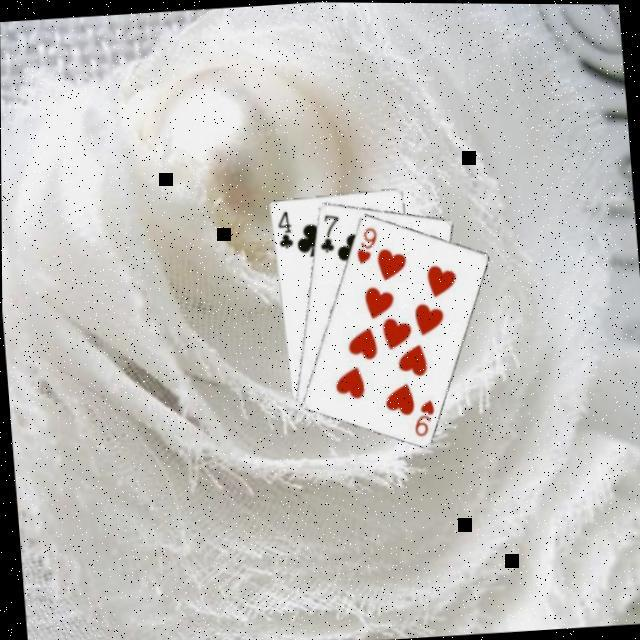4C: (274, 205, 296, 250)
7C: (314, 208, 344, 254)
9H: (352, 220, 382, 264), (409, 393, 438, 438)
